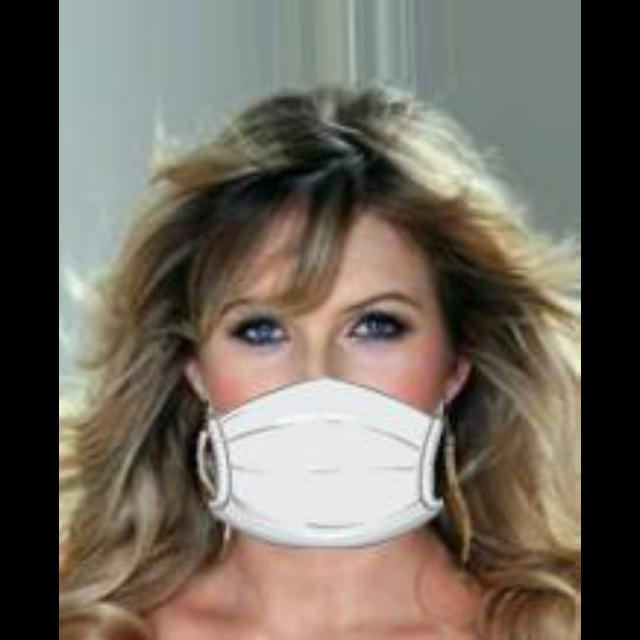suspicion: (160, 88, 506, 586)
